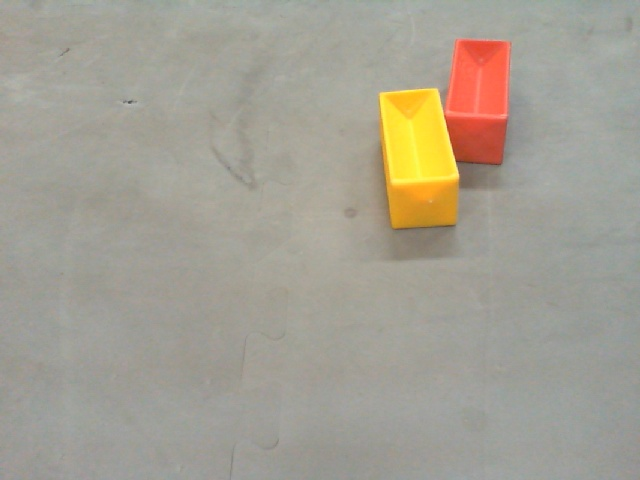RedSample: (445, 36, 513, 170)
YellowSample: (380, 90, 459, 225)
